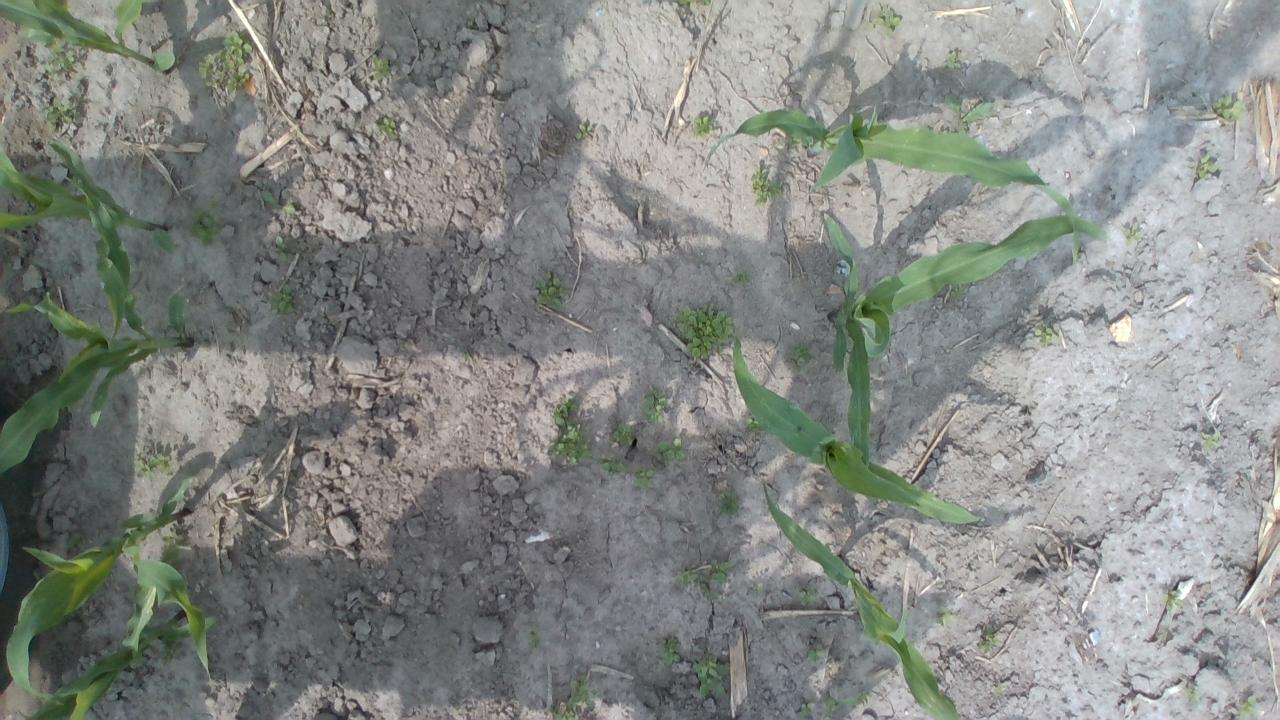Maize: (819, 207, 1108, 468), (706, 104, 1084, 262), (0, 177, 192, 476), (726, 320, 978, 522), (7, 475, 215, 699), (764, 493, 958, 720), (0, 139, 172, 342), (29, 552, 216, 720), (0, 0, 187, 77)
Weeds: (196, 30, 252, 94), (674, 303, 734, 360), (944, 94, 994, 138), (550, 424, 593, 464), (43, 34, 82, 77), (190, 200, 223, 248), (693, 656, 728, 698), (697, 559, 732, 601), (750, 166, 784, 209), (42, 96, 82, 130), (136, 448, 172, 481), (534, 274, 566, 310), (643, 386, 668, 424), (655, 437, 689, 464), (1214, 95, 1246, 122), (568, 677, 596, 707), (788, 342, 814, 373), (21, 25, 57, 47), (552, 396, 578, 426), (872, 8, 900, 34), (978, 625, 1001, 654), (659, 638, 681, 667), (611, 421, 634, 448), (633, 464, 656, 490), (272, 286, 294, 313), (158, 636, 179, 664), (154, 228, 176, 254), (66, 531, 88, 556), (1197, 152, 1218, 178), (370, 54, 390, 81), (691, 115, 714, 138), (716, 490, 738, 514), (1236, 696, 1258, 720), (1035, 322, 1056, 347), (836, 691, 870, 706), (1161, 589, 1184, 611), (599, 456, 626, 474), (552, 701, 577, 720), (942, 49, 962, 70), (676, 569, 697, 588), (821, 695, 836, 720), (381, 116, 398, 138), (274, 236, 288, 262), (806, 644, 826, 662), (745, 415, 766, 432), (935, 606, 953, 625), (798, 588, 817, 606), (574, 124, 592, 142), (1202, 432, 1220, 450), (1124, 224, 1140, 244), (160, 529, 177, 546), (799, 702, 815, 720), (528, 622, 542, 642), (735, 270, 752, 286), (1184, 686, 1200, 702), (282, 203, 298, 219), (260, 190, 276, 205), (949, 288, 964, 300), (788, 136, 804, 146), (676, 0, 690, 6), (702, 0, 711, 8)
